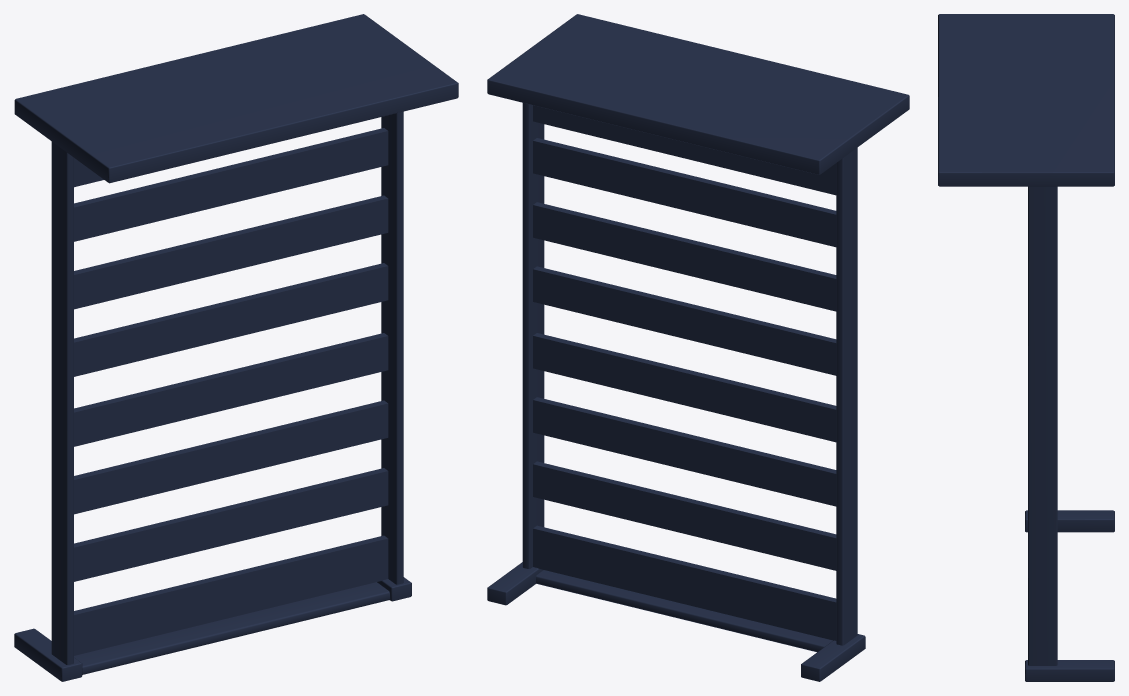
File: MeshBed_12_0.obj
3 views of the same model, side by side, from view 1: azimuth 30°, elevation 25°; view 2: azimuth 150°, elevation 25°; view 3: azimuth 270°, elevation 25° (orthographic). The views are drawn at different scales.
Parts seen in each view (by area): view 1: Bed_12; view 2: Bed_12; view 3: Bed_12.
Boxes of the visible parts, x1=… form: Bed_12: x1=14, y1=14, x2=458, y2=681; Bed_12: x1=487, y1=14, x2=909, y2=681; Bed_12: x1=938, y1=14, x2=1114, y2=681.
Size of the model in its own units: 1.38 by 2.06 by 0.6465.
